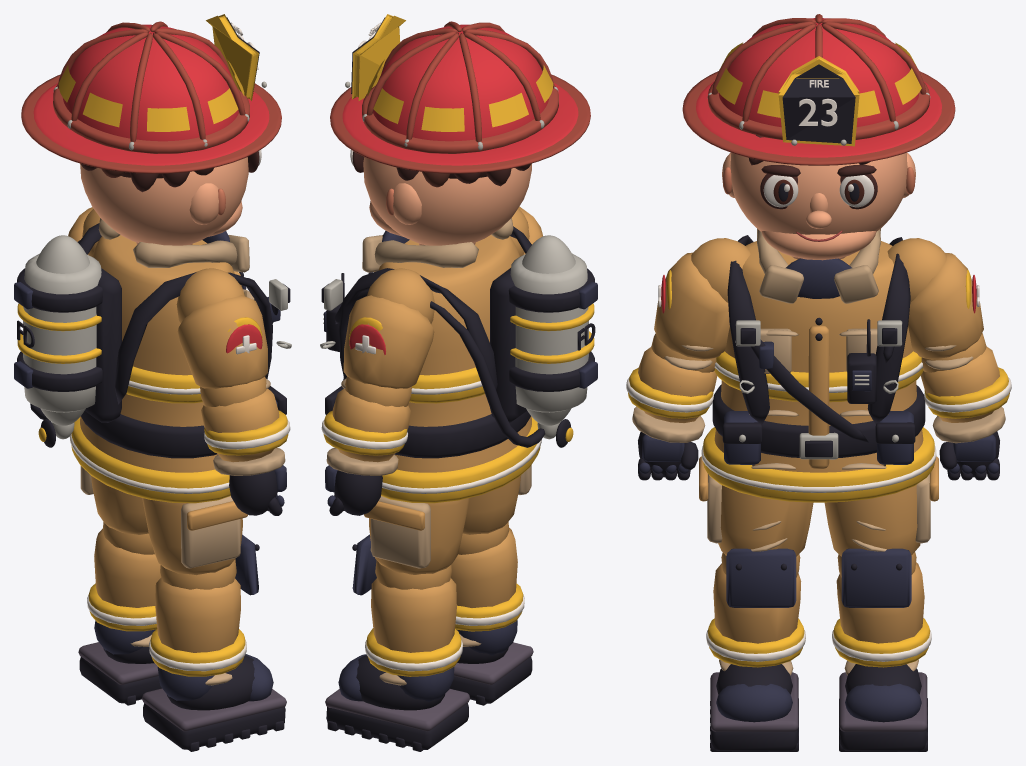
The picture shows the model from 3 angles, left to right: view 1: azimuth 30°, elevation 25°; view 2: azimuth 150°, elevation 25°; view 3: azimuth 270°, elevation 25°; orthographic projection.
Visible parts, largest first — view 1: torso__geometry, head__geometry, shinR__geometry, footR__geometry, armR__geometry, foreArmR__geometry, shinL__geometry, legR__geometry, footL__geometry, legL__geometry, handR__geometry, armL__geometry; view 2: torso__geometry, head__geometry, shinL__geometry, footL__geometry, armL__geometry, foreArmL__geometry, legL__geometry, shinR__geometry, footR__geometry, legR__geometry, handL__geometry, armR__geometry; view 3: torso__geometry, head__geometry, shinR__geometry, shinL__geometry, armR__geometry, armL__geometry, footR__geometry, footL__geometry, foreArmR__geometry, foreArmL__geometry, legR__geometry, legL__geometry (+2 smaller).
Part boxes in pixels (x1,y1,x2,y2): torso__geometry: [14, 218, 291, 503]; head__geometry: [21, 14, 281, 245]; shinR__geometry: [149, 534, 259, 685]; footR__geometry: [141, 654, 286, 751]; armR__geometry: [176, 268, 267, 388]; foreArmR__geometry: [200, 376, 290, 475]; shinL__geometry: [87, 522, 161, 646]; legR__geometry: [142, 496, 247, 575]; footL__geometry: [78, 620, 161, 705]; legL__geometry: [80, 466, 148, 534]; handR__geometry: [229, 465, 286, 515]; armL__geometry: [68, 207, 99, 256]; torso__geometry: [320, 218, 597, 503]; head__geometry: [330, 14, 590, 245]; shinL__geometry: [352, 534, 462, 685]; footL__geometry: [325, 654, 469, 751]; armL__geometry: [343, 268, 434, 388]; foreArmL__geometry: [321, 376, 411, 475]; legL__geometry: [364, 496, 469, 574]; shinR__geometry: [451, 522, 524, 646]; footR__geometry: [450, 620, 533, 705]; legR__geometry: [462, 465, 531, 534]; handL__geometry: [325, 465, 382, 515]; armR__geometry: [510, 206, 542, 256]; torso__geometry: [701, 228, 936, 502]; head__geometry: [682, 14, 955, 260]; shinR__geometry: [706, 548, 805, 675]; shinL__geometry: [832, 548, 931, 675]; armR__geometry: [654, 238, 750, 359]; armL__geometry: [887, 238, 983, 359]; footR__geometry: [710, 664, 798, 751]; footL__geometry: [839, 664, 927, 751]; foreArmR__geometry: [626, 333, 717, 442]; foreArmL__geometry: [920, 333, 1011, 443]; legR__geometry: [699, 456, 813, 556]; legL__geometry: [824, 456, 938, 556].
Size of the model in its own units: 0.5472 by 1.46 by 0.7363.
